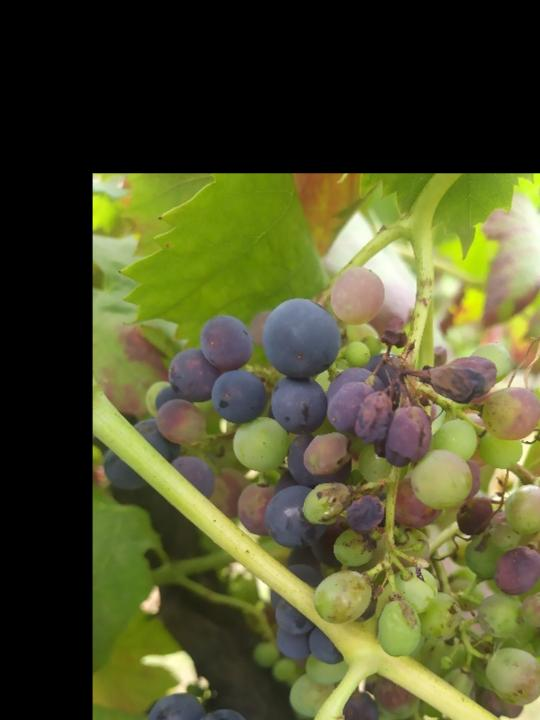grape: (102, 262, 540, 720)
